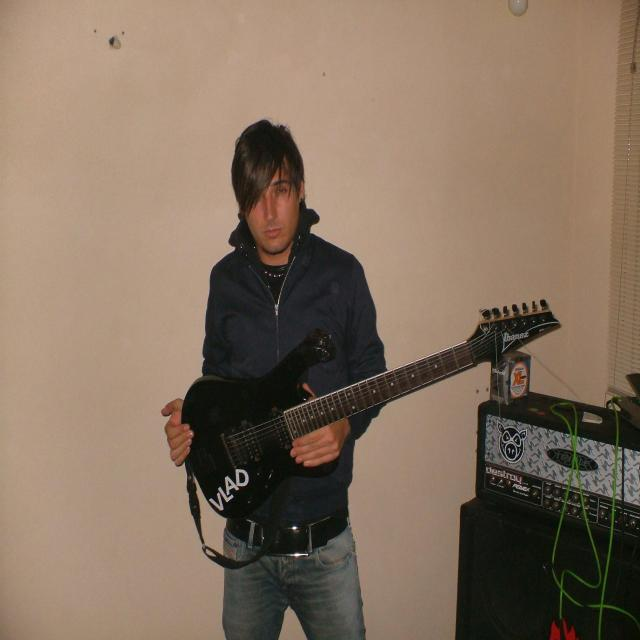guitar: (179, 294, 566, 525)
